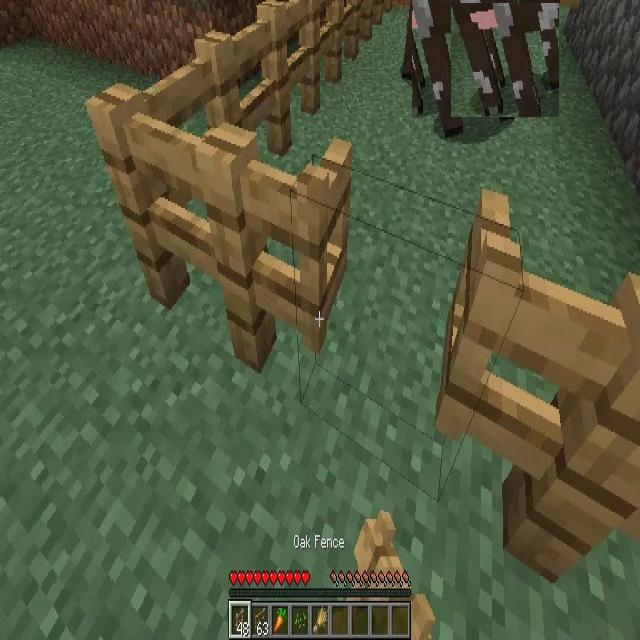cow: (412, 0, 518, 139), (451, 3, 559, 118)
